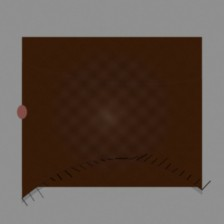hemorrhage_spot: (95, 67, 163, 122)
